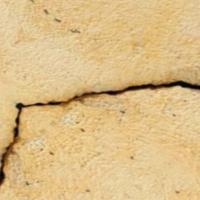crack: (2, 74, 199, 174)
